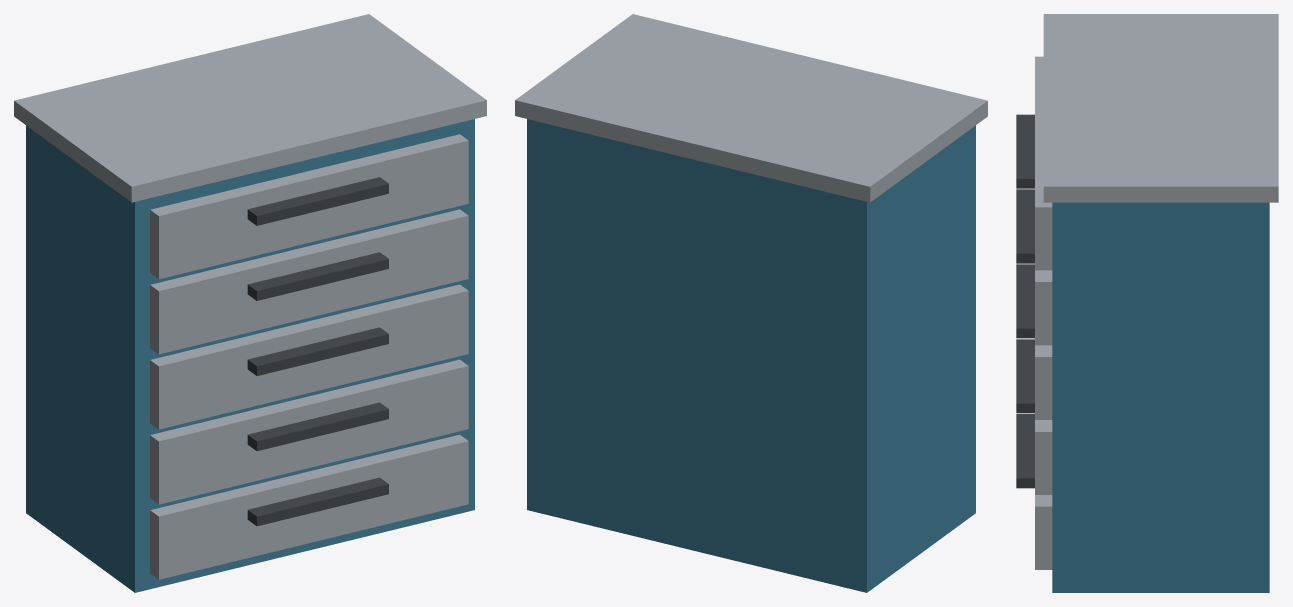
The picture shows the model from 3 angles, left to right: view 1: azimuth 30°, elevation 25°; view 2: azimuth 150°, elevation 25°; view 3: azimuth 270°, elevation 25°; orthographic projection.
Visible parts, largest first — view 1: body, top, drawer2, drawer3, drawer4, drawer1, drawer0, handle1, handle2, handle3, handle0, handle4; view 2: body, top; view 3: body, top, drawer4, handle0, handle1, handle2, handle3, handle4, drawer3, drawer0, drawer1, drawer2.
Boxes of the visible parts, x1,y1,x2,y2 form: body: [26, 119, 474, 592]; top: [14, 14, 486, 202]; drawer2: [150, 284, 468, 429]; drawer3: [150, 209, 468, 354]; drawer4: [150, 134, 468, 279]; drawer1: [150, 359, 468, 504]; drawer0: [150, 434, 468, 579]; handle1: [247, 402, 388, 451]; handle2: [247, 327, 388, 375]; handle3: [247, 252, 388, 300]; handle0: [247, 477, 388, 526]; handle4: [247, 177, 388, 225]; body: [527, 119, 975, 592]; top: [515, 14, 987, 202]; body: [1052, 202, 1269, 592]; top: [1043, 14, 1278, 202]; drawer4: [1035, 56, 1052, 270]; handle0: [1016, 414, 1034, 488]; handle1: [1016, 339, 1034, 413]; handle2: [1016, 264, 1034, 338]; handle3: [1016, 189, 1034, 263]; handle4: [1016, 114, 1034, 188]; drawer3: [1035, 270, 1052, 345]; drawer0: [1035, 495, 1052, 569]; drawer1: [1035, 420, 1052, 494]; drawer2: [1035, 345, 1052, 419].
Size of the model in its own units: 0.94 by 1.04 by 0.6025.
